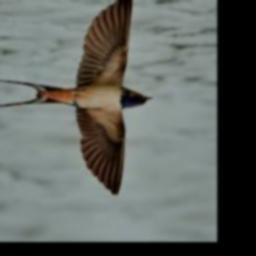Swallow: (0, 0, 153, 196)
